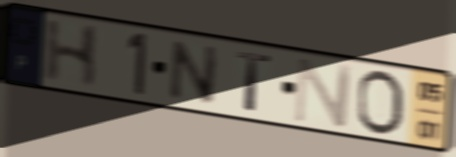1: (124, 30, 150, 99)
H: (41, 17, 103, 91)
N: (291, 55, 357, 130), (165, 37, 223, 107)
O: (354, 68, 406, 139)
T: (234, 48, 274, 116)
